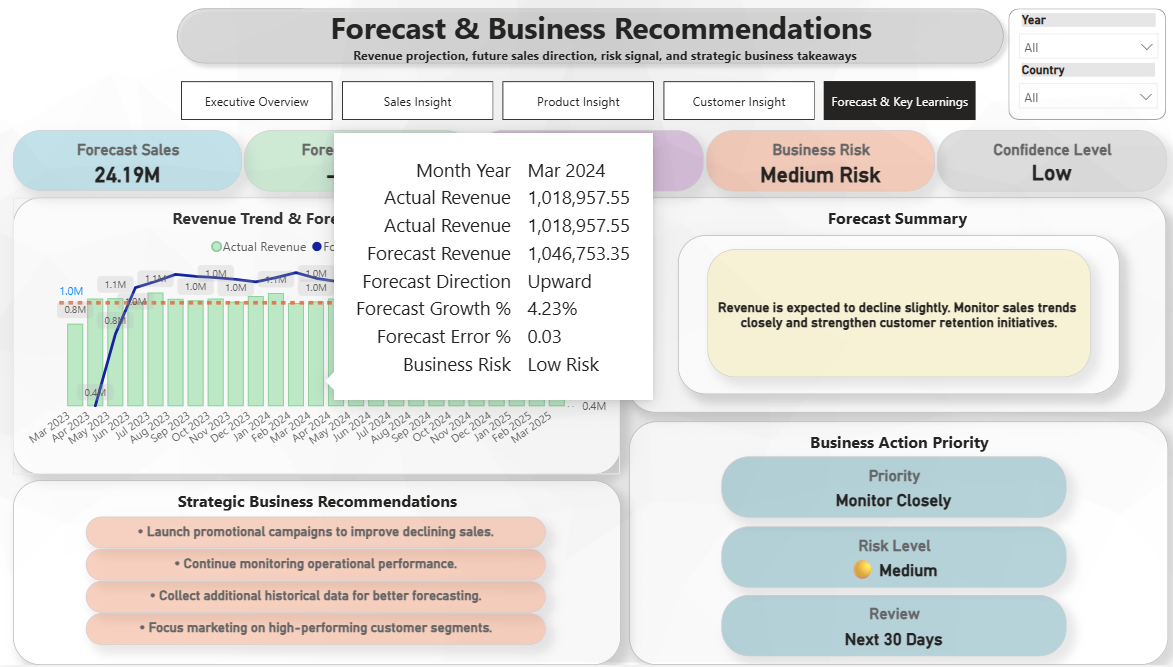

This screenshot's page, from the dashboard's own definition file:
{"tool":"powerbi","page":{"name":"Forecast & Key Learnings","canvas":[1280,720],"ordinal":4},"visuals":[{"type":"shape","box":[183.8,0,913.2,77.9],"z":0},{"type":"textbox","box":[330,2.9,651.2,106.1],"z":1000},{"type":"pageNavigator","box":[197,88,864.7,42.4],"z":2000},{"type":"shape","title":"Forecast Summary ","box":[680,213.8,582.5,232.5],"z":3000},{"type":"shape","title":"Market Leadership Insight","box":[734.3,254.3,477.6,172.4],"z":4000},{"type":"lineClusteredColumnComboChart","title":"Revenue Trend & Forecast Comparison","fields":{"Category":["Dim Date.Month Year"],"Y":["Measure Table.Actual Revenue"],"Y2":["Measure Table.Forecast Revenue"]},"box":[15,213.3,658,300],"z":5000},{"type":"card","title":" Forecast Sales ","fields":{"Values":["Measure Table.Forecast Sales"]},"box":[15,141.4,248,66],"z":6000},{"type":"card","title":"Forecast Growth","fields":{"Values":["Measure Table.Forecast Growth %"]},"box":[265,141,248,66.7],"z":7000},{"type":"card","title":"Forecast Direction","fields":{"Values":["Measure Table.Forecast Direction"]},"box":[515.7,141.4,248,66.7],"z":8000},{"type":"card","title":"Business Risk","fields":{"Values":["Measure Table.Business Risk"]},"box":[765.7,141,248,66.7],"z":9000},{"type":"card","title":"Confidence Level","fields":{"Values":["Measure Table.Confidence Level"]},"box":[1015.7,141.4,248.9,66.7],"z":10000},{"type":"slicer","fields":{"Values":["Dim Country.Country"]},"box":[1094.2,65,170,56.7],"z":11000},{"type":"slicer","fields":{"Values":["Dim Date.Year"]},"box":[1093.3,9.2,170.8,61.7],"z":12000},{"type":"shape","box":[1092.9,9.3,170.7,120.7],"z":13000},{"type":"shape","title":"Business Action Priority ","box":[681.2,456.2,583.8,263.8],"z":14000},{"type":"shape","title":"Strategic Business Recommendations","box":[15.2,519.7,657.6,200],"z":15000},{"type":"card","title":" Forecast Sales ","fields":{"Values":["Measure Table.Recommendation 1"]},"box":[94.6,559.2,497.9,34.3],"z":16000},{"type":"card","title":" Forecast Sales ","fields":{"Values":["Measure Table.Recommendation 2"]},"box":[94.6,593.8,497.9,34.3],"z":17000},{"type":"card","title":" Forecast Sales ","fields":{"Values":["Measure Table.Recommendation 3"]},"box":[93.8,628.5,497.9,34.3],"z":18000},{"type":"card","title":" Forecast Sales ","fields":{"Values":["Measure Table.Recommendation 4"]},"box":[93.8,663.1,497.9,34.3],"z":19000},{"type":"card","title":"Business Risk","fields":{"Values":["Measure Table.Forecast Summary"]},"box":[766.7,270,415,138.8],"z":20000},{"type":"card","title":"Priority","fields":{"Values":["Measure Table.Action Priority"]},"box":[781.7,493.3,373.3,66.7],"z":21000},{"type":"card","title":"Review","fields":{"Values":["Measure Table.Next Review Period"]},"box":[781.7,643.3,373.3,66.7],"z":22000},{"type":"card","title":"Risk Level","fields":{"Values":["Measure Table.Priority Color"]},"box":[781.7,569,373.3,66.7],"z":23000}]}

Visuals, with their boxes in screenshot pixels (x1, y1, x2, y2), scaled from the page's 1280x720 canvas onto the 1173x667 screenshot:
shape: bbox=(168, 0, 1005, 72)
textbox: bbox=(302, 3, 899, 101)
pageNavigator: bbox=(181, 82, 973, 121)
"Forecast Summary " shape: bbox=(623, 198, 1157, 413)
"Market Leadership Insight" shape: bbox=(673, 236, 1111, 395)
"Revenue Trend & Forecast Comparison" lineClusteredColumnComboChart: bbox=(14, 198, 617, 476)
" Forecast Sales " card: bbox=(14, 131, 241, 192)
"Forecast Growth" card: bbox=(243, 131, 470, 192)
"Forecast Direction" card: bbox=(473, 131, 700, 193)
"Business Risk" card: bbox=(702, 131, 929, 192)
"Confidence Level" card: bbox=(931, 131, 1159, 193)
slicer - Dim Country.Country: bbox=(1003, 60, 1159, 113)
slicer - Dim Date.Year: bbox=(1002, 9, 1158, 66)
shape: bbox=(1002, 9, 1158, 120)
"Business Action Priority " shape: bbox=(624, 423, 1159, 666)
"Strategic Business Recommendations" shape: bbox=(14, 481, 617, 666)
" Forecast Sales " card: bbox=(87, 518, 543, 550)
" Forecast Sales " card: bbox=(87, 550, 543, 582)
" Forecast Sales " card: bbox=(86, 582, 542, 614)
" Forecast Sales " card: bbox=(86, 614, 542, 646)
"Business Risk" card: bbox=(703, 250, 1083, 379)
"Priority" card: bbox=(716, 457, 1058, 519)
"Review" card: bbox=(716, 596, 1058, 658)
"Risk Level" card: bbox=(716, 527, 1058, 589)
